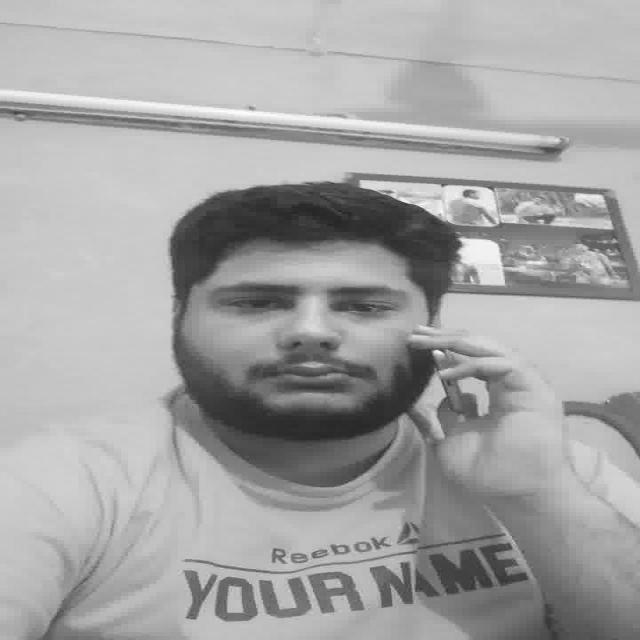fake: (436, 347, 468, 419)
real: (182, 242, 430, 412)
